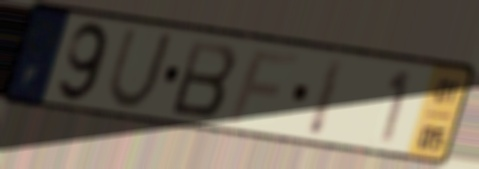1: (378, 67, 414, 146)
9: (55, 20, 114, 105)
B: (168, 36, 241, 120)
F: (225, 47, 303, 126)
I: (303, 54, 350, 139)
U: (104, 26, 177, 112)
